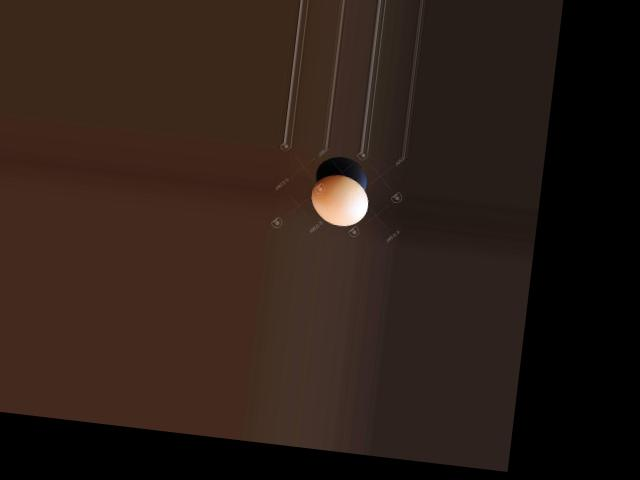egg: (308, 171, 371, 228)
